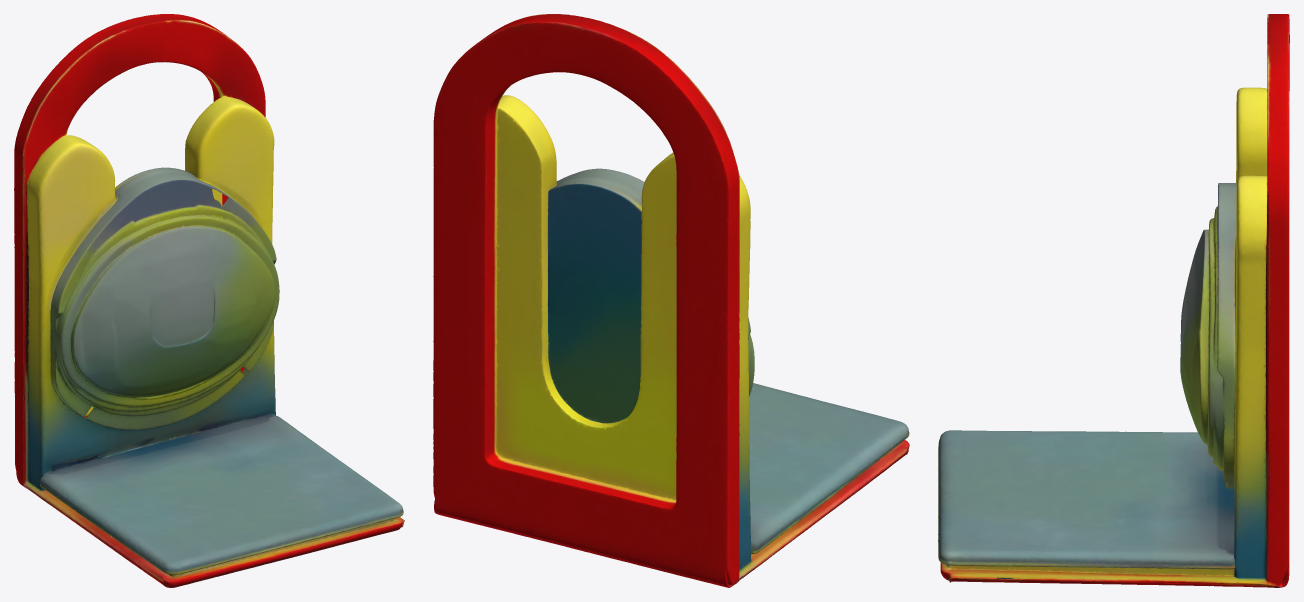
The model's file is fenestra.glb.
The picture shows the model from 3 angles, left to right: view 1: azimuth 30°, elevation 25°; view 2: azimuth 150°, elevation 25°; view 3: azimuth 270°, elevation 25°; orthographic projection. The views are drawn at different scales.
Parts seen in each view (by area): view 1: geometry_0; view 2: geometry_0; view 3: geometry_0.
Boxes of the visible parts, bbox=[...] form: geometry_0: bbox=[14, 14, 404, 587]; geometry_0: bbox=[433, 14, 909, 587]; geometry_0: bbox=[938, 14, 1289, 587].
Bounding box in the file's own units: 0.5884 × 0.9986 × 0.6444.
1 material, 1 textured.
